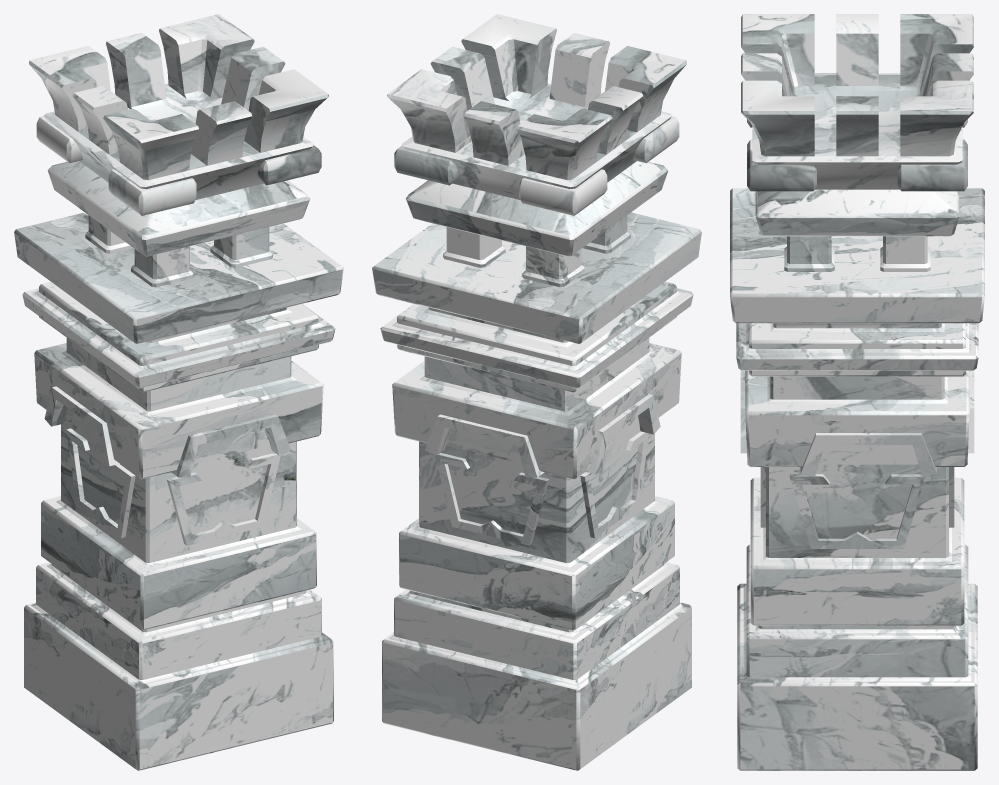
File: chess_castle_01.glb
3 views of the same model, side by side, from view 1: azimuth 30°, elevation 25°; view 2: azimuth 150°, elevation 25°; view 3: azimuth 270°, elevation 25° (orthographic). The views are drawn at different scales.
Parts seen in each view (by area): view 1: castle_01; view 2: castle_01; view 3: castle_01.
Boxes of the visible parts, x1,y1,x2,y2 form: castle_01: (14,14,343,770); castle_01: (372,14,701,770); castle_01: (730,14,984,770).
Size of the model in its own units: 0.5943 by 1.7 by 0.5943.
Materials: 1 (1 with a texture image).
